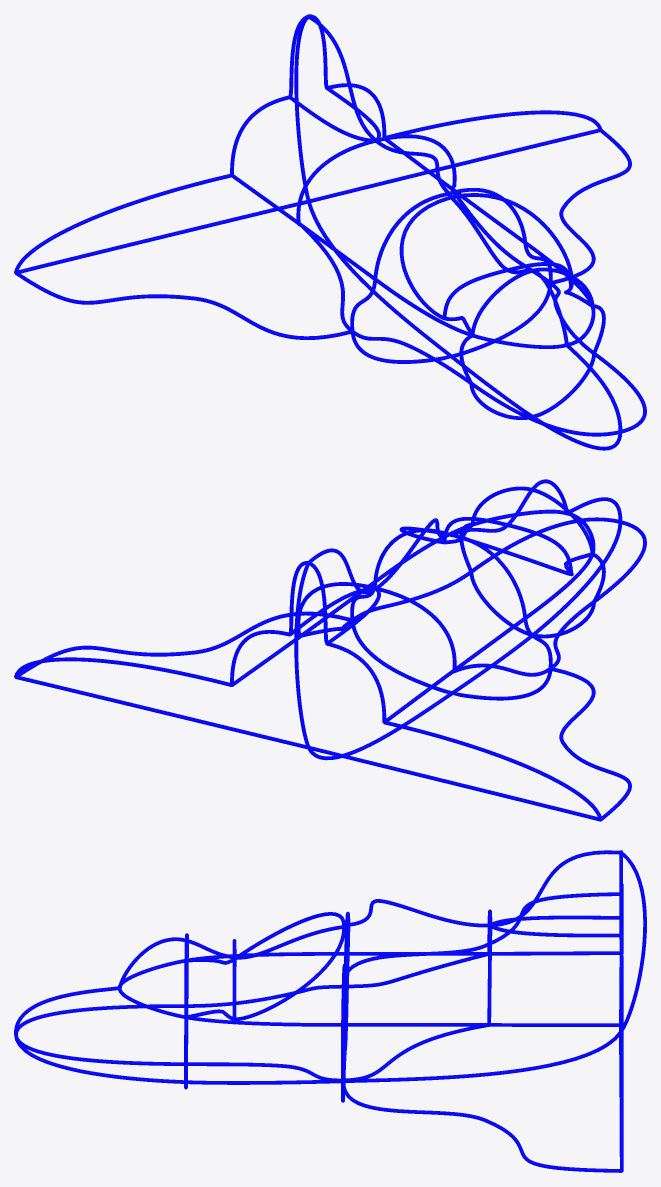
Rendered from t2f_fighter.glb.
3 views of the same model, one above another, from view 1: azimuth 30°, elevation 25°; view 2: azimuth 150°, elevation 25°; view 3: azimuth 270°, elevation 25° (orthographic). The views are drawn at different scales.
Parts seen in each view (by area): view 1: t2f_fighter; view 2: t2f_fighter; view 3: t2f_fighter.
Part boxes in pixels (x1,y1,x2,y2): t2f_fighter: [14, 14, 646, 450]; t2f_fighter: [14, 479, 646, 821]; t2f_fighter: [14, 850, 646, 1172].
Bounding box in the file's own units: 0.6986 × 0.2738 × 0.6709.
